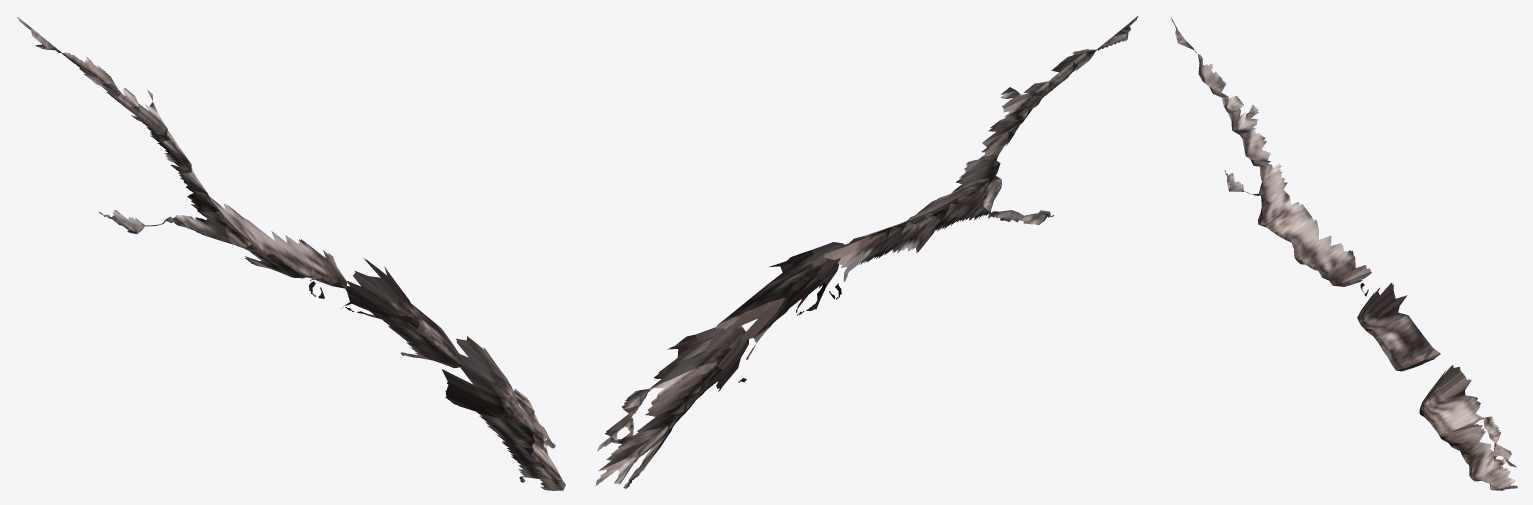
File: branch_prop.obj
3 views of the same model, side by side, from view 1: azimuth 30°, elevation 25°; view 2: azimuth 150°, elevation 25°; view 3: azimuth 330°, elevation 25° (orthographic). The views are drawn at different scales.
Visible parts, largest first — view 1: branch_prop; view 2: branch_prop; view 3: branch_prop.
Part boxes in pixels (<box>): branch_prop: <box>17,17,565,490</box>; branch_prop: <box>595,16,1138,488</box>; branch_prop: <box>1171,17,1517,490</box>.
Size of the model in its own units: 1.06 by 1.13 by 0.1859.
Materials: 1 (1 with a texture image).
